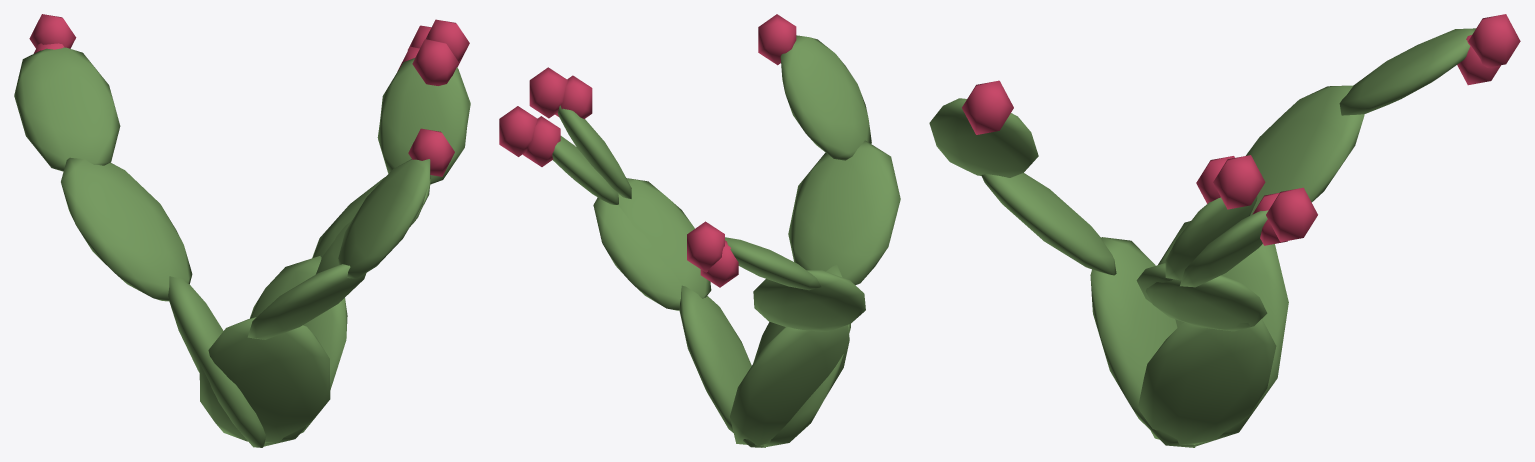
File: prickly_pear_1.glb
3 renders of one model, left to right at view 1: azimuth 30°, elevation 25°; view 2: azimuth 150°, elevation 25°; view 3: azimuth 270°, elevation 25°, orthographic. The views are drawn at different scales.
Visible parts, largest first — view 1: prickly_pear_1; view 2: prickly_pear_1; view 3: prickly_pear_1.
Boxes of the visible parts, left/top/right/bottom form: prickly_pear_1: left=14, top=14, right=470, bottom=447; prickly_pear_1: left=499, top=14, right=900, bottom=447; prickly_pear_1: left=929, top=14, right=1520, bottom=447.
Size of the model in its own units: 0.9268 by 0.8543 by 1.13.
